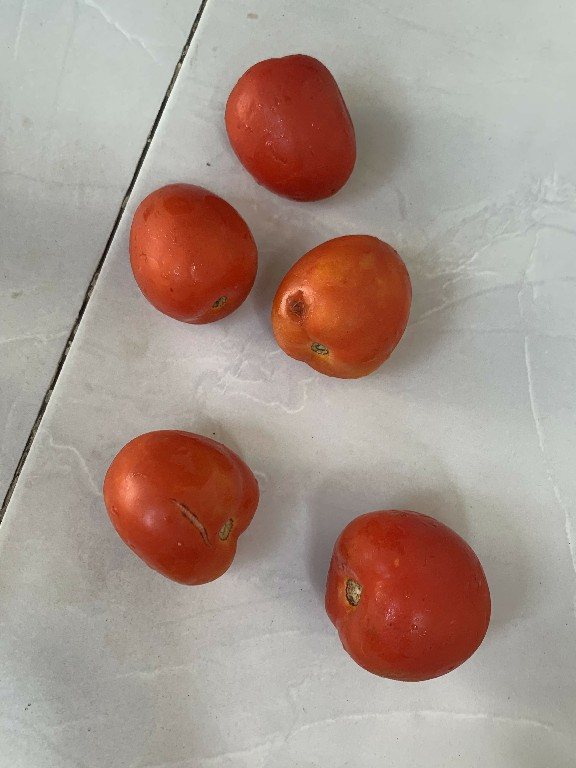NG: (85, 424, 271, 595), (272, 230, 414, 385)
OK: (316, 498, 493, 685), (214, 51, 367, 207), (122, 175, 264, 329)
